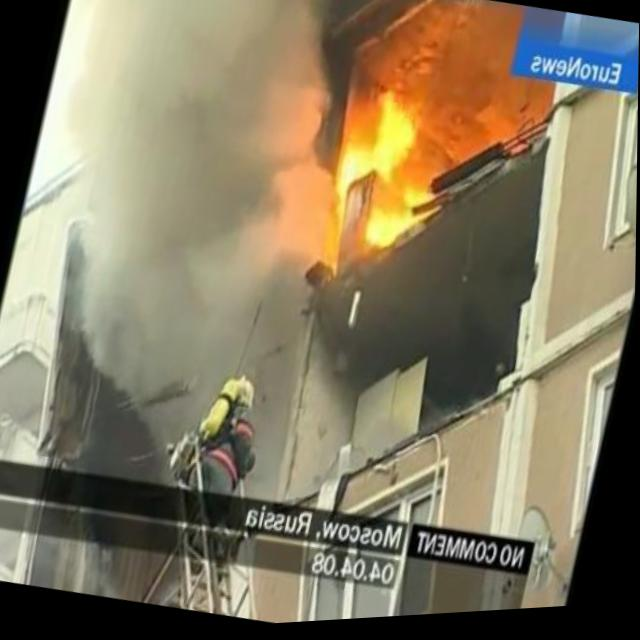fire: (314, 73, 462, 264)
